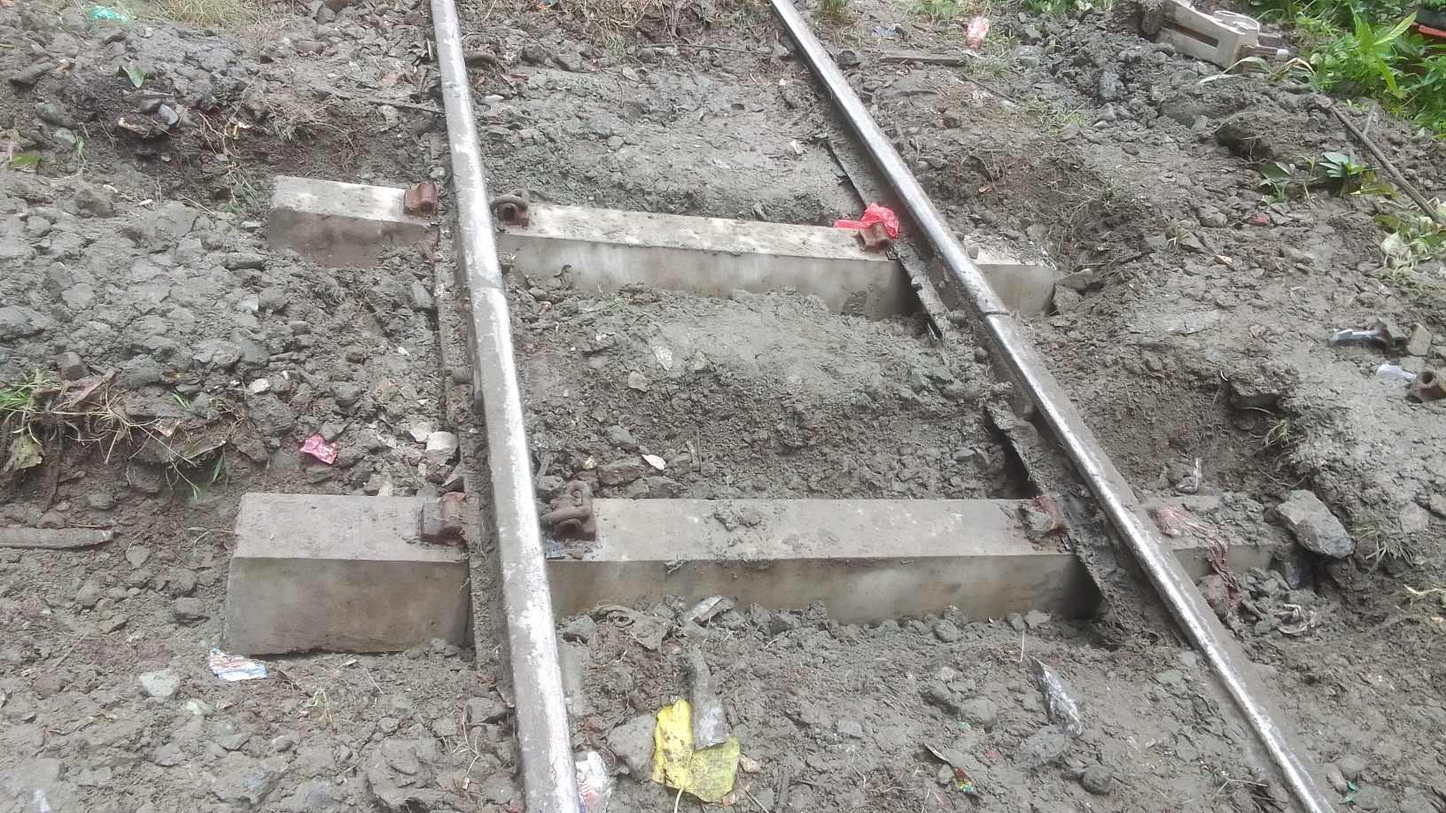railway-gap: (944, 269, 1034, 360)
